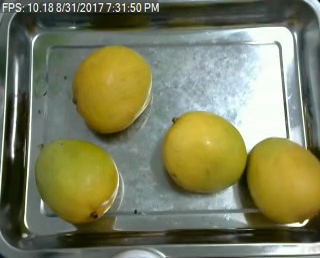Mango: (34, 141, 119, 223), (74, 45, 153, 132), (163, 113, 247, 193), (247, 137, 320, 222)
